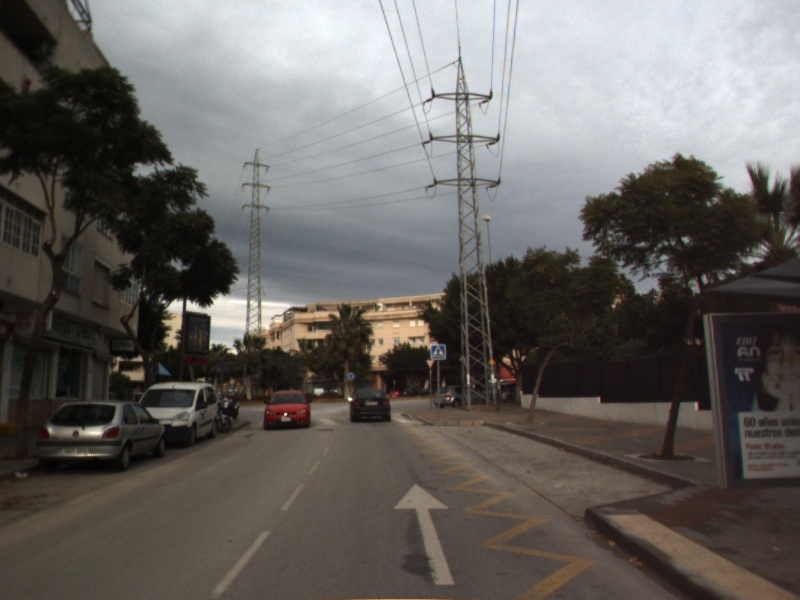STRAIGHT: (390, 480, 459, 588)
